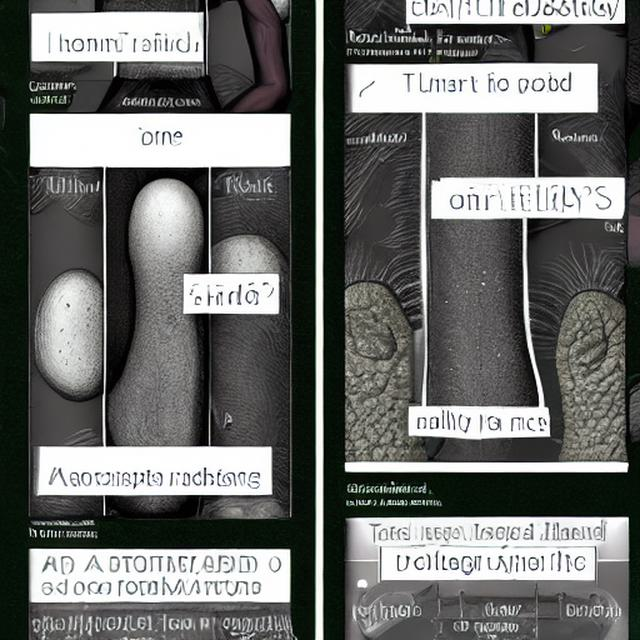Graph: (31, 167, 103, 210), (492, 180, 551, 215), (184, 280, 234, 309)
